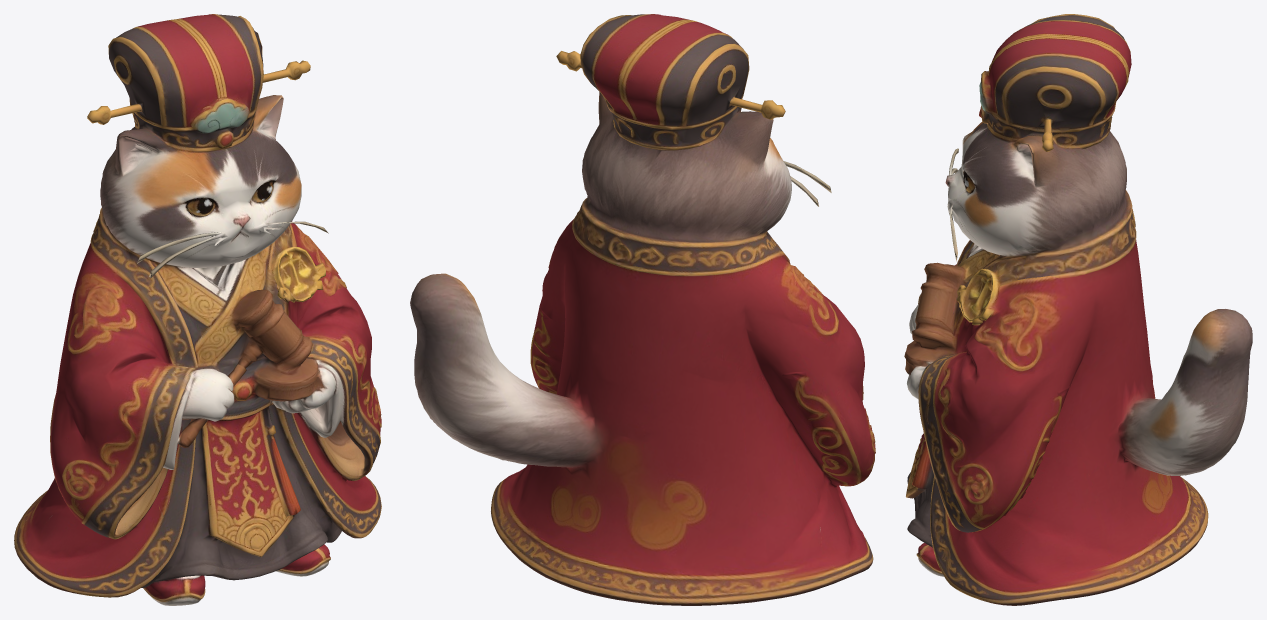
File: cat_calico_3d.glb
3 views of the same model, side by side, from view 1: azimuth 30°, elevation 25°; view 2: azimuth 150°, elevation 25°; view 3: azimuth 270°, elevation 25° (orthographic). The views are drawn at different scales.
Parts seen in each view (by area): view 1: tripo_node_52704220-608e-4f13-9847-e85e755f173a; view 2: tripo_node_52704220-608e-4f13-9847-e85e755f173a; view 3: tripo_node_52704220-608e-4f13-9847-e85e755f173a.
Part boxes in pixels (bbox=[...]): tripo_node_52704220-608e-4f13-9847-e85e755f173a: bbox=[14, 14, 381, 605]; tripo_node_52704220-608e-4f13-9847-e85e755f173a: bbox=[410, 14, 875, 605]; tripo_node_52704220-608e-4f13-9847-e85e755f173a: bbox=[904, 14, 1252, 605].
Bounding box in the file's own units: 0.7059 × 1 × 0.6221.
Materials: 1 (1 with a texture image).
